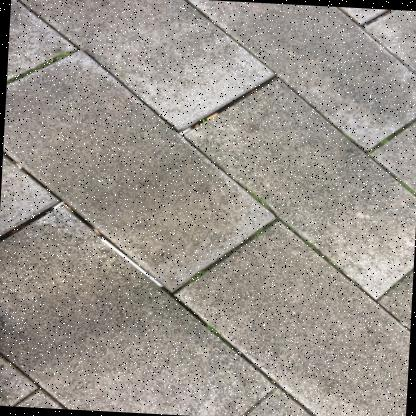Cigarette: (51, 201, 64, 210), (205, 112, 218, 120), (178, 127, 190, 135), (11, 160, 21, 169), (63, 204, 72, 212), (92, 228, 100, 235)
Plastic straw: (101, 238, 163, 287)
